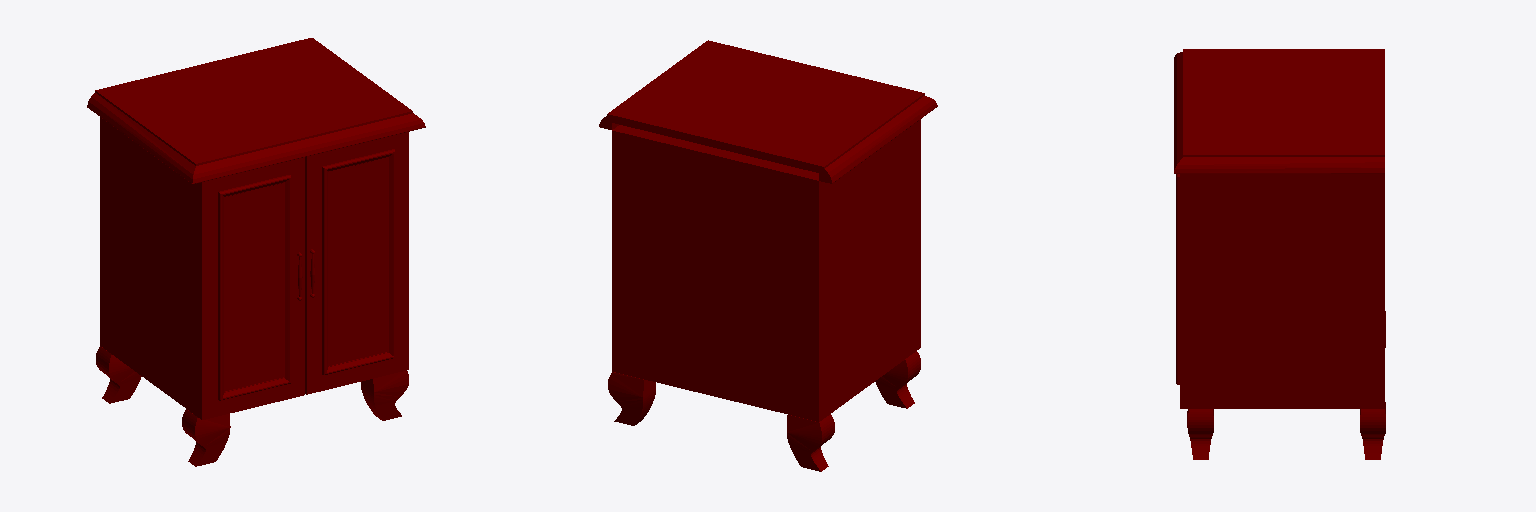
Rendered from case1_wine.obj.
The picture shows the model from 3 angles: view 1: azimuth 30°, elevation 25°; view 2: azimuth 150°, elevation 25°; view 3: azimuth 270°, elevation 25°; orthographic projection.
Visible parts, largest first — view 1: Layer_0, Line21, Line20, Line22; view 2: Layer_0, Line22, Line23, Line21; view 3: Layer_0, Line20, Line23.
Part boxes in pixels (x1,y1,x2,y2): Layer_0: (87, 38, 425, 419); Line21: (182, 409, 230, 466); Line20: (361, 371, 408, 420); Line22: (96, 346, 141, 403); Layer_0: (599, 40, 937, 421); Line22: (787, 414, 834, 471); Line23: (608, 372, 655, 425); Line21: (875, 351, 920, 408); Layer_0: (1174, 49, 1384, 408); Line20: (1187, 409, 1213, 459); Line23: (1360, 402, 1385, 459).
Bounding box in the file's own units: 576 × 725 × 454.